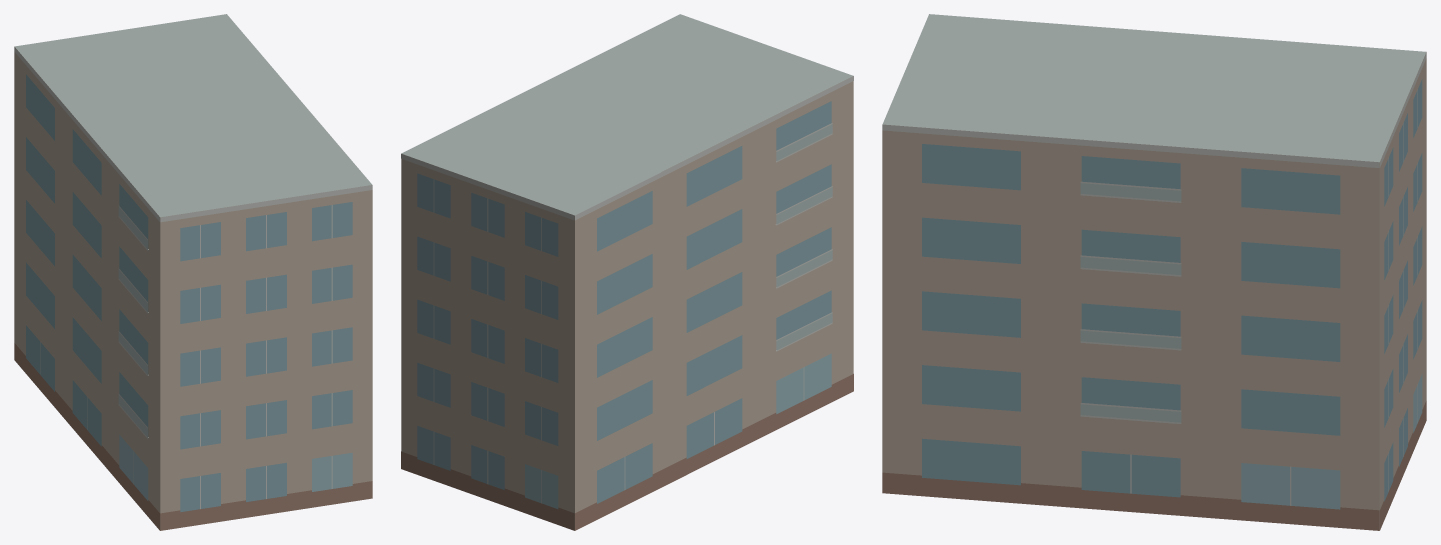
File: survey-upis-32754769.glb
3 renders of one model, left to right at view 1: azimuth 30°, elevation 25°; view 2: azimuth 150°, elevation 25°; view 3: azimuth 270°, elevation 25°, orthographic. The views are drawn at different scales.
Visible parts, largest first — view 1: survey-upis-32754769.tmp; view 2: survey-upis-32754769.tmp; view 3: survey-upis-32754769.tmp.
Boxes of the visible parts, <box> form: survey-upis-32754769.tmp: <box>14,14,372,530</box>; survey-upis-32754769.tmp: <box>401,14,853,530</box>; survey-upis-32754769.tmp: <box>882,14,1426,530</box>.
Bounding box in the file's own units: 13.16 × 15.25 × 20.41.
